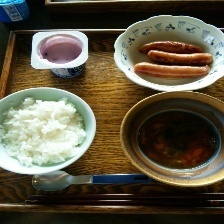rice: (0, 96, 88, 167)
